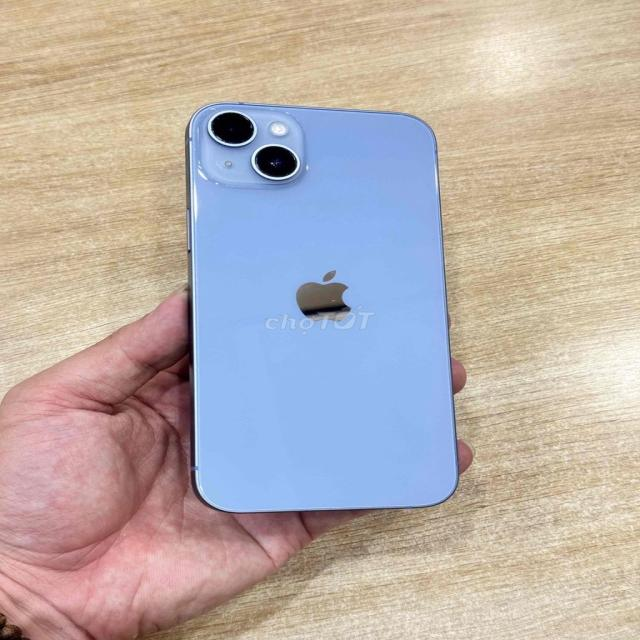gen_14: (167, 93, 468, 531)
